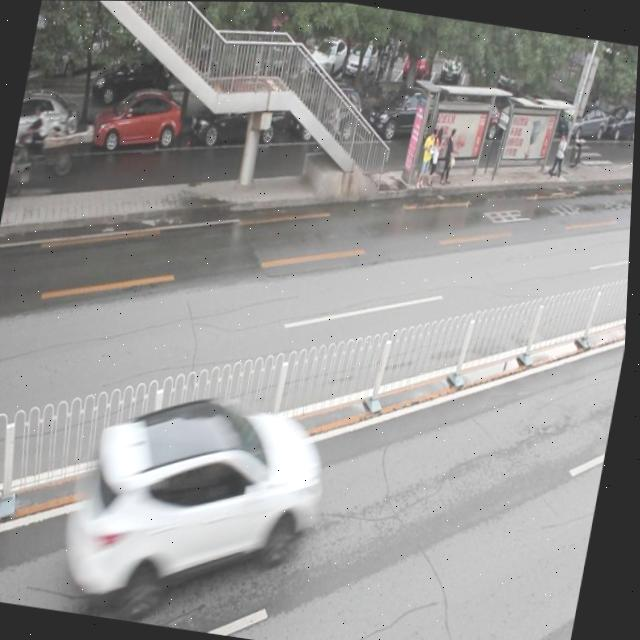car: (61, 378, 341, 632), (91, 82, 189, 159), (189, 79, 287, 154), (366, 80, 447, 148), (289, 80, 367, 148), (15, 87, 84, 160)
